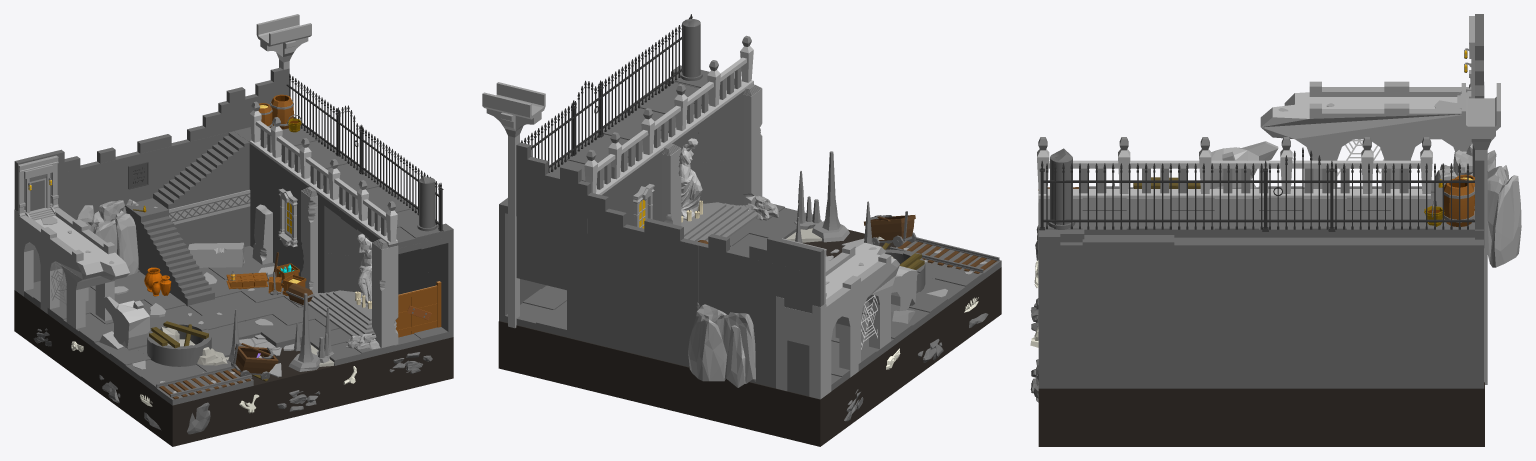
The model's file is Dungeon.fbx.
3 views of the same model, side by side, from view 1: azimuth 30°, elevation 25°; view 2: azimuth 150°, elevation 25°; view 3: azimuth 270°, elevation 25° (orthographic). The views are drawn at different scales.
Visible parts, largest first — view 1: Dungeon, Cube, Prop_Ruins_Bridge_Stone_Piece_01, Dungeon_Tiles_Modular_1x1_Stone_01 (1), Prop_Ruins_Column_Square_Stone_02, Prop_Handrail_Stone_05 (3), Rock_Chunks_Large_Tall_01 1, Prop_Handrail_Stone_05 (4), Prop_Doorway_Wall_Dressing_Castle_Dungeon_Stone_01, Prop_Ruins_Bridge_Stone_Piece_02, Prop_Stairs_Grand_Stone_01, Prop_Aqueduct_Castle_Dungeon_01 (+49 smaller); view 2: Dungeon, Cube, Prop_Ruins_Bridge_Stone_Piece_01, Rock_Chunks_Large_Tall_01 1, Prop_Aqueduct_Castle_Dungeon_01, Dungeon_Tiles_Modular_1x1_Stone_01 (10), Prop_Handrail_Stone_05 (4), Prop_Handrail_Stone_05 (3), Dungeon_Tiles_Modular_2x2_Wall_1_Stone_01 (1), Dungeon_Tiles_Modular_2x2_Wall_1_Stone_01 (3), Dungeon_Tiles_Modular_1x3_Wall_3_Alcove_Stone_01 (1), Prop_Ruins_Column_Square_Stone_02 (+27 smaller); view 3: Cube, Dungeon, Prop_Ruins_Bridge_Stone_Piece_01, Dungeon_Tiles_Modular_2x2_Wall_2_Stone_01 (2), Dungeon_Tiles_Modular_2x2_Wall_2_Stone_01 (4), Dungeon_Tiles_Modular_2x2_Wall_2_Stone_01 (5), Dungeon_Tiles_Modular_2x2_Wall_2_Stone_01 (1), Dungeon_Tiles_Modular_2x2_Wall_2_Stone_01 (3), Prop_Handrail_Stone_05 (4), Prop_Handrail_Stone_05 (3), Rock_Chunks_Large_Tall_01 1, Dungeon_Tiles_Modular_1x1_Wall_1_Stone_01 (4) (+28 smaller).
Part boxes in pixels (<box>): Dungeon: <box>14,127,453,370</box>; Cube: <box>14,290,453,446</box>; Prop_Ruins_Bridge_Stone_Piece_01: <box>14,203,129,328</box>; Dungeon_Tiles_Modular_1x1_Stone_01 (1): <box>125,193,250,271</box>; Prop_Ruins_Column_Square_Stone_02: <box>372,242,398,347</box>; Prop_Handrail_Stone_05 (3): <box>328,160,397,244</box>; Rock_Chunks_Large_Tall_01 1: <box>77,199,138,275</box>; Prop_Handrail_Stone_05 (4): <box>270,117,339,200</box>; Prop_Doorway_Wall_Dressing_Castle_Dungeon_Stone_01: <box>18,155,58,220</box>; Prop_Ruins_Bridge_Stone_Piece_02: <box>99,296,149,350</box>; Prop_Stairs_Grand_Stone_01: <box>308,290,374,336</box>; Prop_Aqueduct_Castle_Dungeon_01: <box>256,14,311,69</box>; Dungeon: <box>499,19,934,353</box>; Cube: <box>498,229,1001,446</box>; Prop_Ruins_Bridge_Stone_Piece_01: <box>776,242,899,399</box>; Rock_Chunks_Large_Tall_01 1: <box>688,302,755,387</box>; Prop_Aqueduct_Castle_Dungeon_01: <box>482,82,545,328</box>; Dungeon_Tiles_Modular_1x1_Stone_01 (10): <box>516,168,590,233</box>; Prop_Handrail_Stone_05 (4): <box>608,84,687,182</box>; Prop_Handrail_Stone_05 (3): <box>682,35,753,133</box>; Dungeon_Tiles_Modular_2x2_Wall_1_Stone_01 (1): <box>635,307,694,367</box>; Dungeon_Tiles_Modular_2x2_Wall_1_Stone_01 (3): <box>759,337,850,396</box>; Dungeon_Tiles_Modular_1x3_Wall_3_Alcove_Stone_01 (1): <box>680,98,736,164</box>; Prop_Ruins_Column_Square_Stone_02: <box>743,88,762,205</box>; Cube: <box>1038,382,1484,446</box>; Dungeon: <box>1038,148,1483,388</box>; Prop_Ruins_Bridge_Stone_Piece_01: <box>1260,81,1484,188</box>; Dungeon_Tiles_Modular_2x2_Wall_2_Stone_01 (2): <box>1308,237,1395,316</box>; Dungeon_Tiles_Modular_2x2_Wall_2_Stone_01 (4): <box>1220,237,1307,316</box>; Dungeon_Tiles_Modular_2x2_Wall_2_Stone_01 (5): <box>1396,237,1483,316</box>; Dungeon_Tiles_Modular_2x2_Wall_2_Stone_01 (1): <box>1308,317,1395,388</box>; Dungeon_Tiles_Modular_2x2_Wall_2_Stone_01 (3): <box>1220,317,1307,388</box>; Prop_Handrail_Stone_05 (4): <box>1199,137,1373,198</box>; Prop_Handrail_Stone_05 (3): <box>1037,137,1202,198</box>; Rock_Chunks_Large_Tall_01 1: <box>1435,143,1521,267</box>; Dungeon_Tiles_Modular_1x1_Wall_1_Stone_01 (4): <box>1128,235,1174,316</box>.
Bounding box in the file's own units: 10.61 × 8.36 × 10.9.
